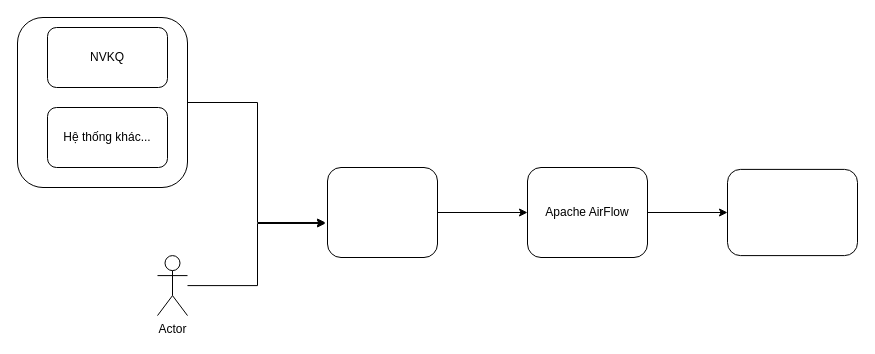
The diagram is 875 pixels wide and 354 high, and some of its shapes have lost their labels. Each missing label, with the centre of its shape:
"auto-labeling" belongs at (x=382, y=212).
"Model" belongs at (x=792, y=212).
